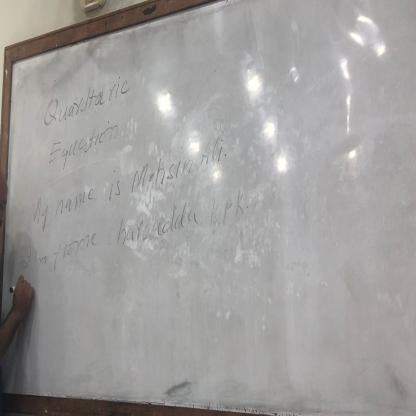Handwritten text: (0, 177, 257, 290), (11, 123, 243, 239), (28, 65, 146, 133), (34, 111, 137, 171)
Whiteboard: (0, 0, 416, 416)
